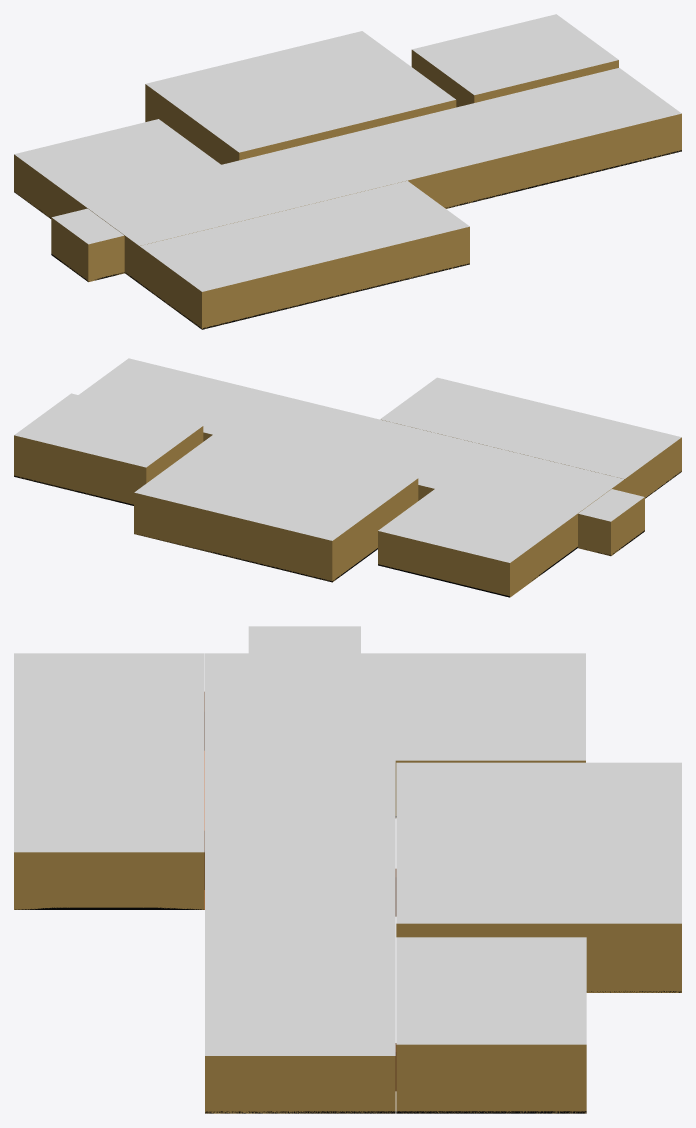
The model's file is location.fbx.
The picture shows the model from 3 angles, top to bottom: view 1: azimuth 30°, elevation 25°; view 2: azimuth 150°, elevation 25°; view 3: azimuth 270°, elevation 25°; orthographic projection. The views are drawn at different scales.
Visible parts, largest first — view 1: Ceiling.001, Ceiling.002, Ceiling.004, kitchen.002, Hall, Ceiling.003, kitchen.003, Boss_Room.003, Hall.005, Start.001, Start, Ceiling (+7 smaller); view 2: Ceiling.001, Ceiling.002, Ceiling.004, Boss_Room.002, Ceiling.003, Sport_Room.002, Hall.004, Boss_Room.003, Hall.005, kitchen.003, Start.001, Start.002 (+3 smaller); view 3: Ceiling.001, Ceiling.002, Ceiling.004, Ceiling.003, Sport_Room.001, Hall.001, kitchen.001, Boss_Room.001, Ceiling.
Part boxes in pixels (box(x1,y1,x2,y2)): Ceiling.001: box(14, 68, 681, 245); Ceiling.002: box(146, 31, 455, 152); Ceiling.004: box(140, 180, 469, 291); kitchen.002: box(202, 226, 469, 328); Hall: box(383, 113, 681, 208); Ceiling.003: box(412, 14, 618, 95); kitchen.003: box(139, 246, 201, 328); Boss_Room.003: box(145, 84, 239, 164); Hall.005: box(14, 154, 104, 220); Start.001: box(51, 217, 88, 280); Start: box(88, 235, 124, 282); Ceiling: box(52, 208, 123, 244); Ceiling.001: box(78, 358, 623, 562); Ceiling.002: box(134, 430, 417, 540); Ceiling.004: box(380, 377, 681, 478); Boss_Room.002: box(134, 492, 332, 582); Ceiling.003: box(14, 393, 202, 467); Sport_Room.002: box(14, 435, 146, 504); Hall.004: box(378, 531, 509, 596); Boss_Room.003: box(332, 478, 418, 581); Hall.005: box(510, 503, 591, 597); kitchen.003: box(624, 437, 681, 498); Start.001: box(611, 497, 644, 555); Start.002: box(578, 513, 610, 556); Ceiling.001: box(205, 653, 585, 1055); Ceiling.002: box(396, 762, 681, 923); Ceiling.004: box(14, 653, 204, 852); Ceiling.003: box(396, 937, 586, 1044); Sport_Room.001: box(396, 1044, 586, 1113); Hall.001: box(205, 1056, 395, 1113); kitchen.001: box(14, 852, 204, 909); Boss_Room.001: box(396, 923, 681, 992); Ceiling: box(248, 626, 360, 653).
Size of the model in its own units: 4323 by 324 by 2840.
